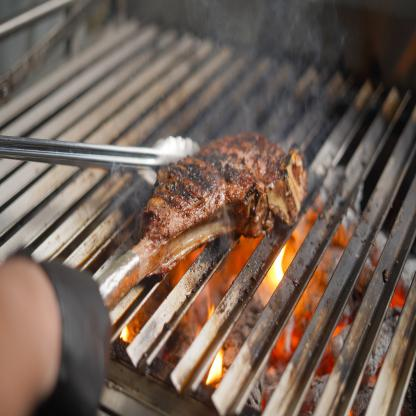Carne: (137, 130, 291, 220)
